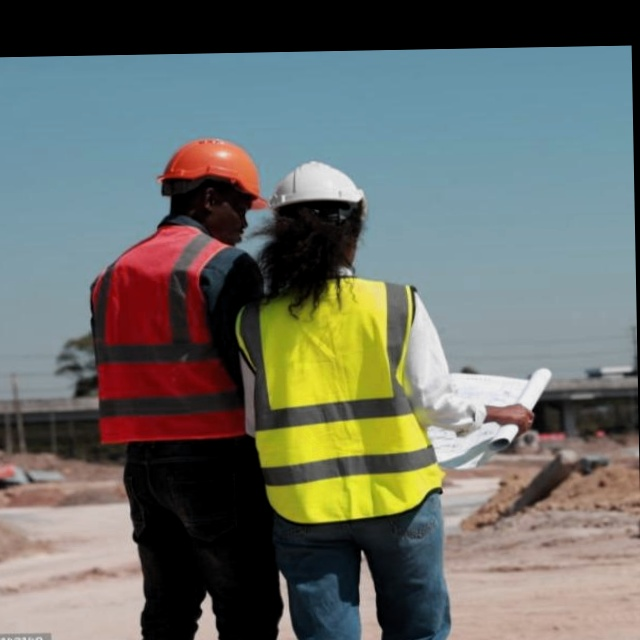Con_Chaleco: (237, 275, 435, 521), (88, 226, 252, 446)
